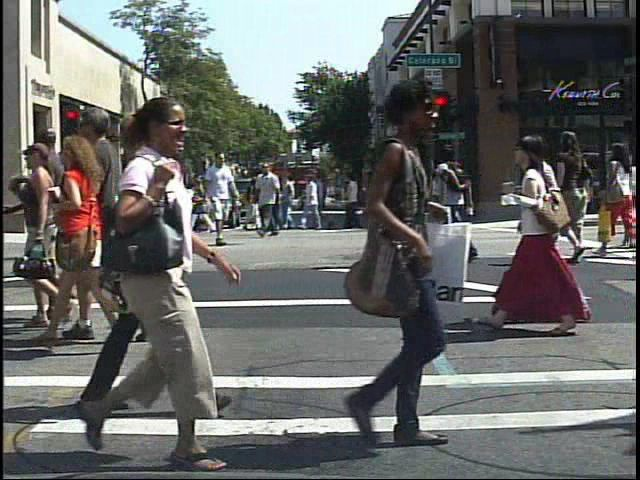person: (301, 77, 496, 459), (63, 84, 246, 475), (51, 124, 146, 353), (509, 125, 591, 348), (65, 99, 137, 352), (538, 130, 572, 345), (432, 140, 479, 269), (557, 128, 601, 264), (597, 134, 636, 260), (205, 149, 235, 249), (129, 160, 160, 245), (80, 162, 109, 248), (155, 158, 186, 238), (393, 162, 421, 235), (64, 181, 90, 244), (82, 183, 102, 226), (399, 133, 400, 276)
